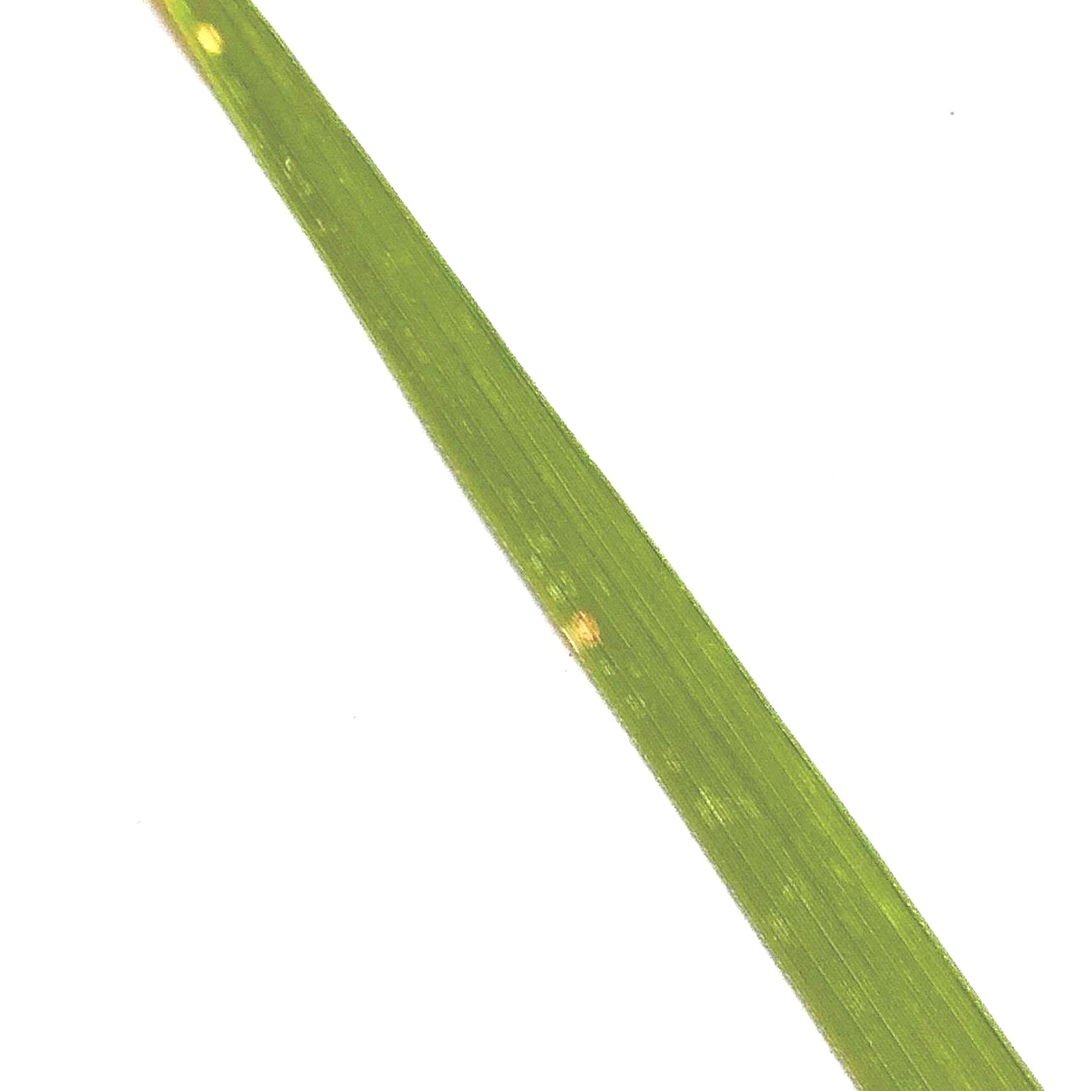Brown_Spot: (542, 576, 618, 664), (189, 11, 233, 60)
